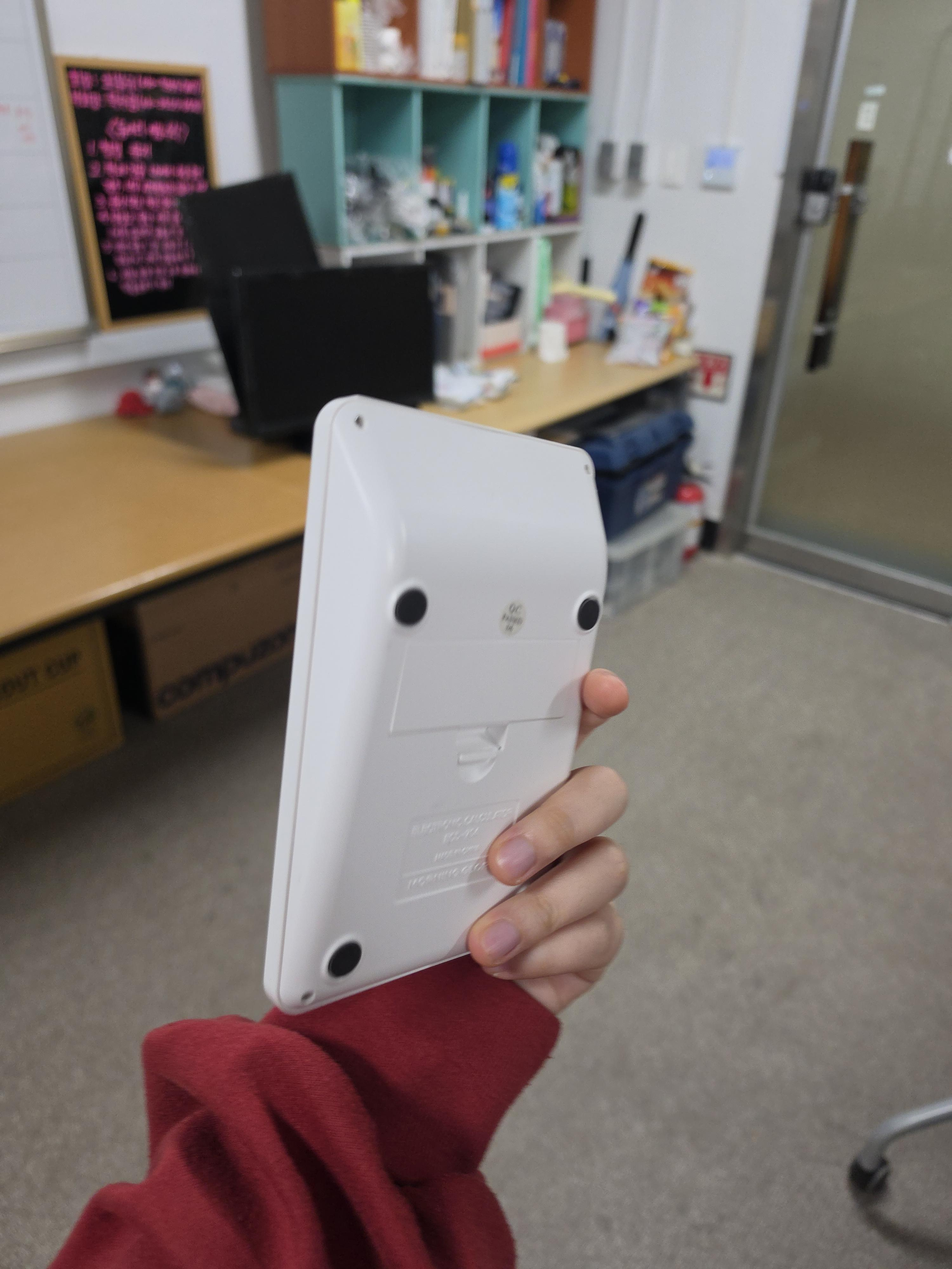calculator: (263, 395, 607, 1016)
